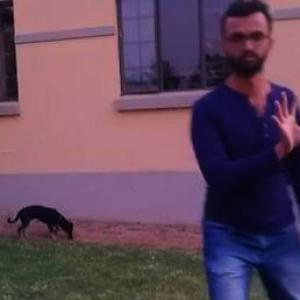follow_hand: (264, 84, 299, 154)
